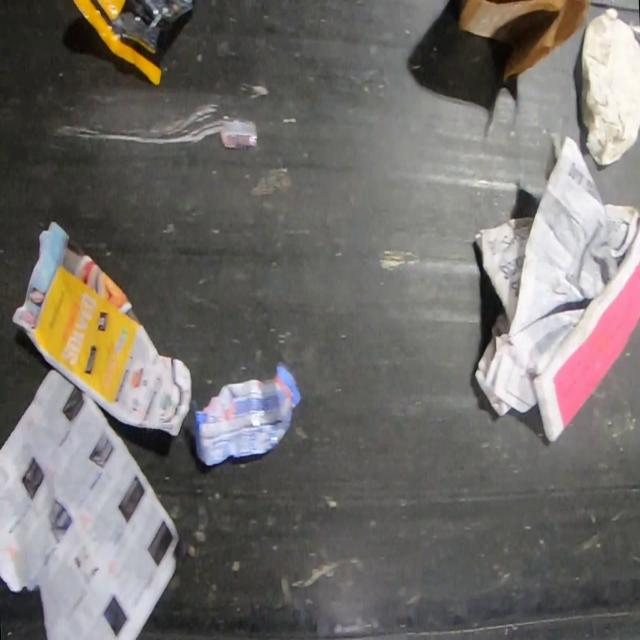cardboard: (10, 219, 194, 436), (459, 0, 592, 86)
soft_plastic: (183, 361, 304, 468), (72, 0, 196, 87)
